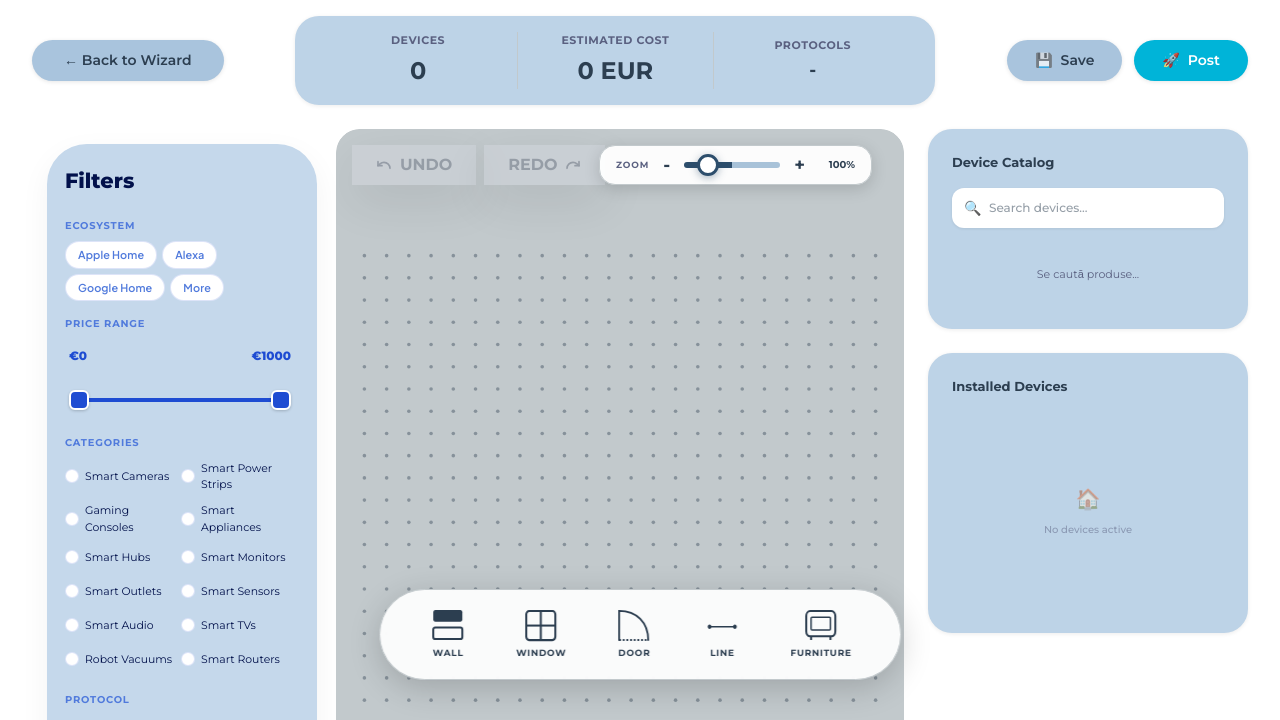
Test case: LayoutCanvas - Suita de Testare › Schimba uneltele din Floating Menu si deschide submeniul Furniture
Click the button "Wall".
click(448, 634)  # box [420,606,476,663]
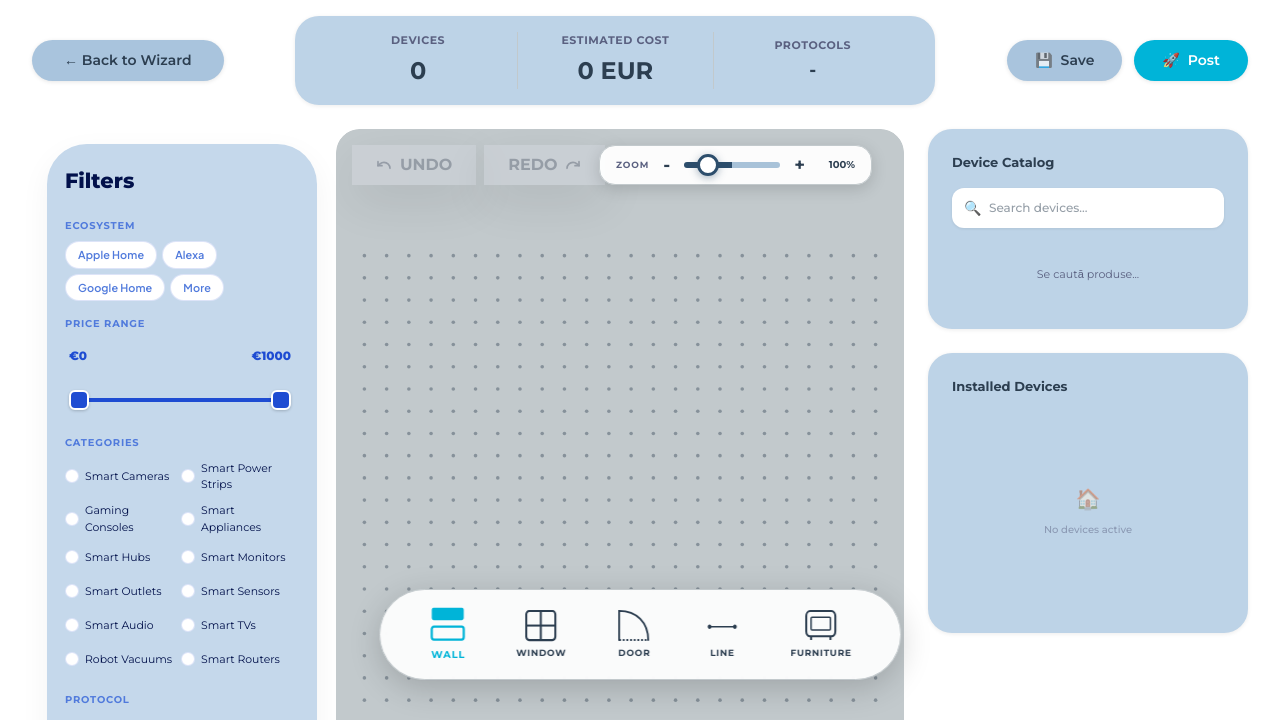
Click the button "Furniture".
click(821, 634)  # box [782,606,860,663]
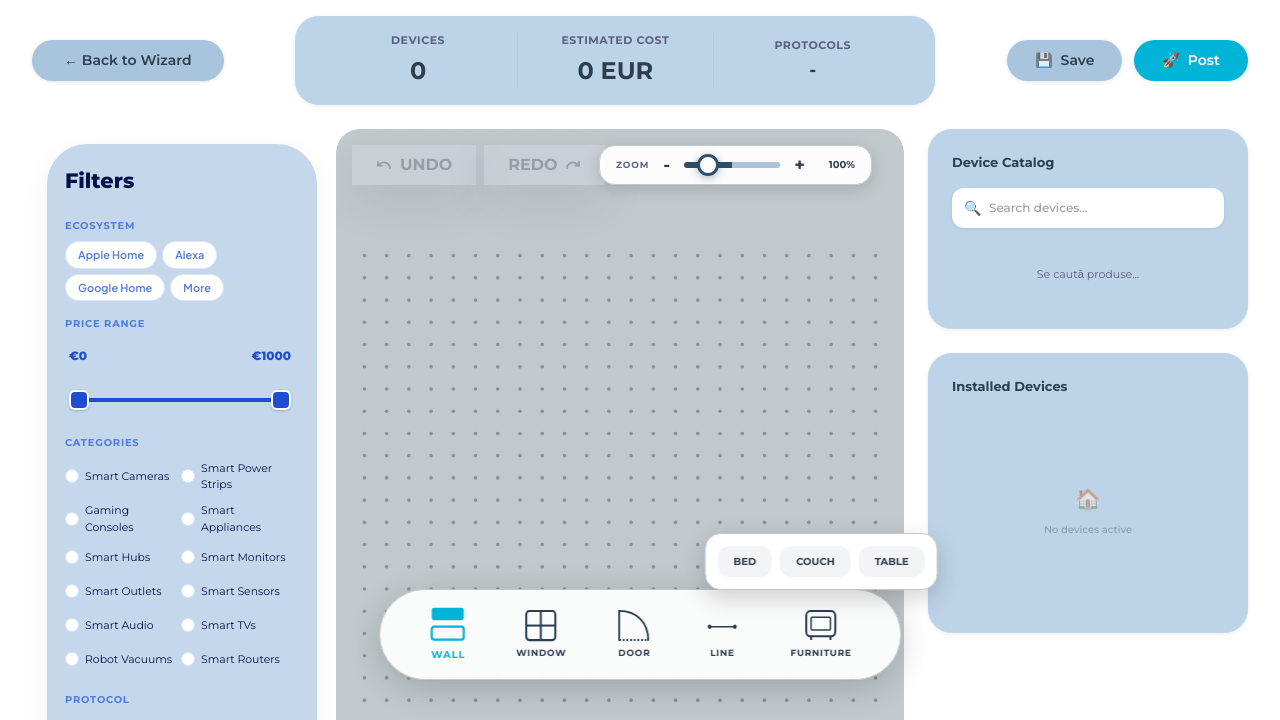
expect the button "Bed" is shown: met
Click the button "Bed".
click(745, 561)  # box [718,546,772,576]
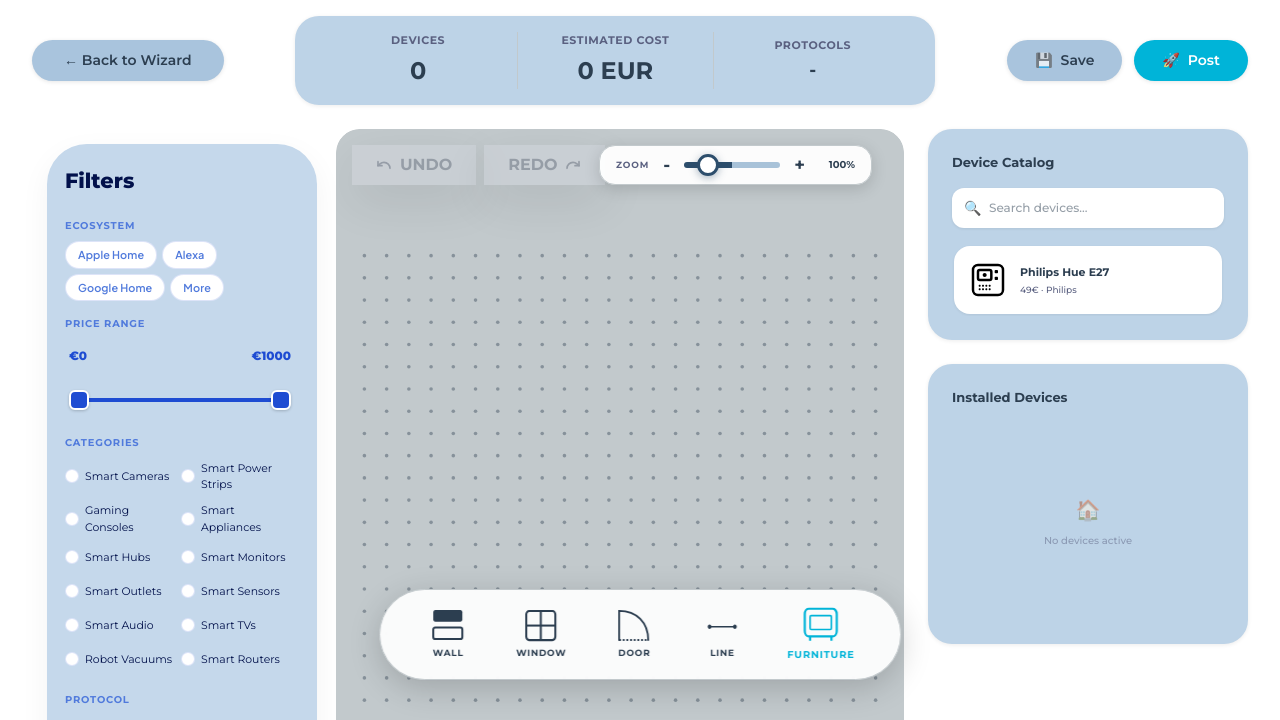
expect the button "Bed" is gone: met
